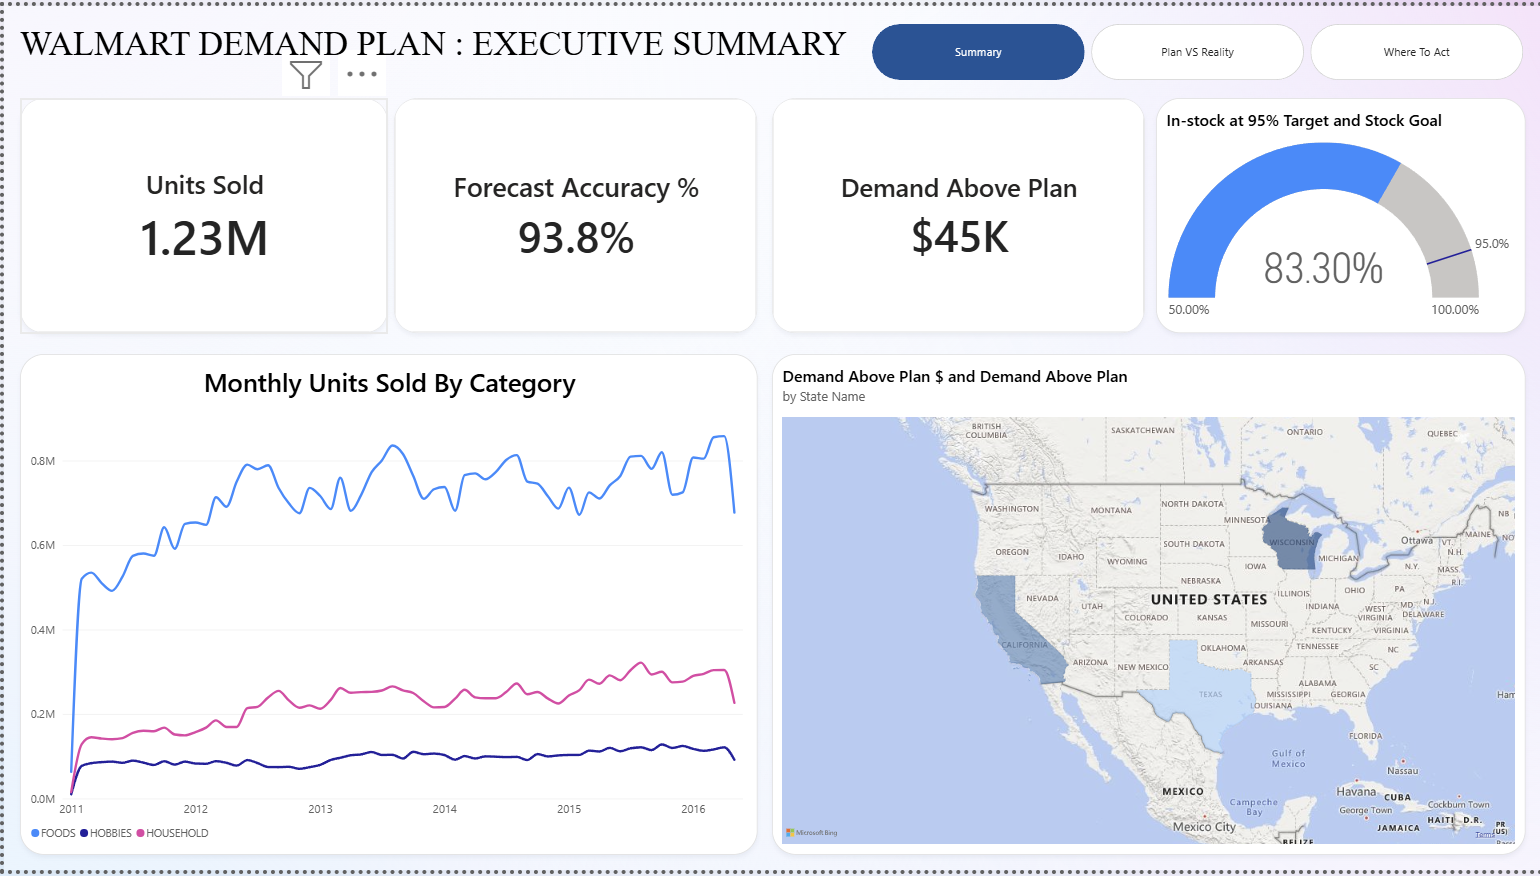

The dashboard page shown, as its layout file describes it:
{"tool":"powerbi","page":{"name":"Summary","canvas":[1920,1080],"ordinal":0},"visuals":[{"type":"cardVisual","title":"Units Sold","fields":{"Data":["forecast_daily.Units Sold"]},"box":[20,116,460,294],"z":0},{"type":"cardVisual","fields":{"Data":["forecast_daily.Forecast Accuracy %"]},"box":[488,116,454,294],"z":1000},{"type":"cardVisual","fields":{"Data":["forecast_daily.Demand Above Plan"]},"box":[960,116,466,294],"z":2000},{"type":"gauge","fields":{"TargetValue":["forecast_daily.Stock Goal"],"Y":["forecast_daily.In-stock at 95% Target"]},"box":[1440,116,462,294],"z":3000},{"type":"lineChart","title":"Monthly Units Sold By Category","fields":{"Category":["Calendar.Month"],"Series":["Categories.cat_id"],"Y":["forecast_daily.History Units"]},"box":[20,436,922,626],"z":4000},{"type":"filledMap","fields":{"Category":["Stores.State Name"]},"box":[960,436,942,626],"z":5000},{"type":"pageNavigator","box":[1085,22.5,815,70],"z":7000},{"type":"textbox","box":[20,22,1040,70],"z":7004}]}

Visuals, with their boxes in screenshot pixels (x1, y1, x2, y2), scaled from the page's 1920x1080 canvas onto the 1540x876 screenshot:
"Units Sold" cardVisual: x1=16 y1=94 x2=385 y2=333
cardVisual - forecast_daily.Forecast Accuracy %: x1=391 y1=94 x2=756 y2=333
cardVisual - forecast_daily.Demand Above Plan: x1=770 y1=94 x2=1144 y2=333
gauge - forecast_daily.Stock Goal x forecast_daily.In-stock at 95% Target: x1=1155 y1=94 x2=1526 y2=333
"Monthly Units Sold By Category" lineChart: x1=16 y1=354 x2=756 y2=861
filledMap - Stores.State Name: x1=770 y1=354 x2=1526 y2=861
pageNavigator: x1=870 y1=18 x2=1524 y2=75
textbox: x1=16 y1=18 x2=850 y2=75
